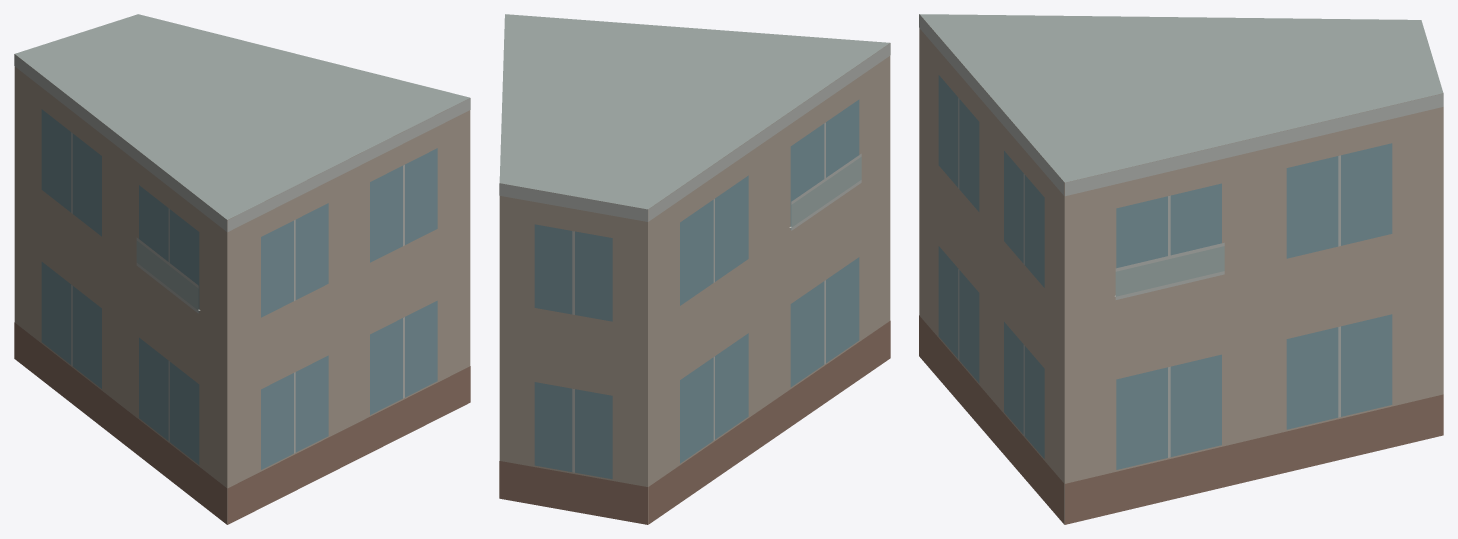
Rendered from survey-upis-32487609.glb.
The picture shows the model from 3 angles, left to right: view 1: azimuth 30°, elevation 25°; view 2: azimuth 150°, elevation 25°; view 3: azimuth 270°, elevation 25°; orthographic projection. The views are drawn at different scales.
Visible parts, largest first — view 1: survey-upis-32487609.tmp; view 2: survey-upis-32487609.tmp; view 3: survey-upis-32487609.tmp.
Part boxes in pixels (x1,y1,x2,y2): survey-upis-32487609.tmp: (14,14,470,524); survey-upis-32487609.tmp: (499,14,890,524); survey-upis-32487609.tmp: (919,14,1443,524).
Bounding box in the file's own units: 6.46 × 6.1 × 8.48.
